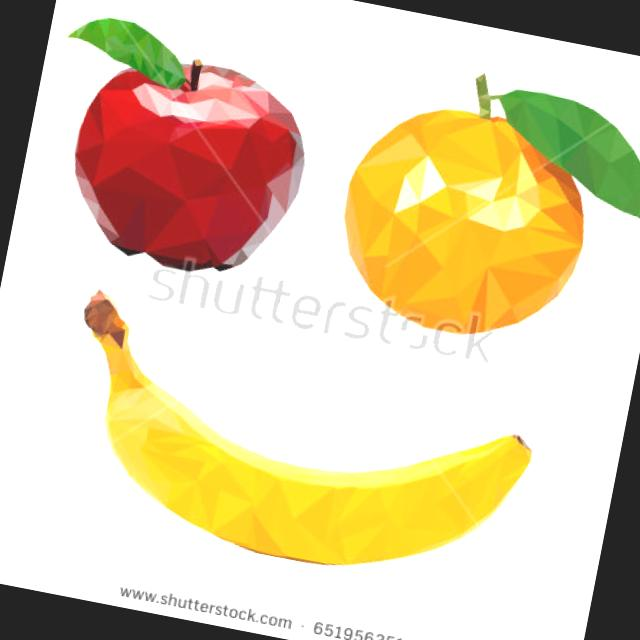apple: (50, 51, 322, 288)
banana: (80, 357, 548, 608)
orange: (314, 85, 608, 371)
